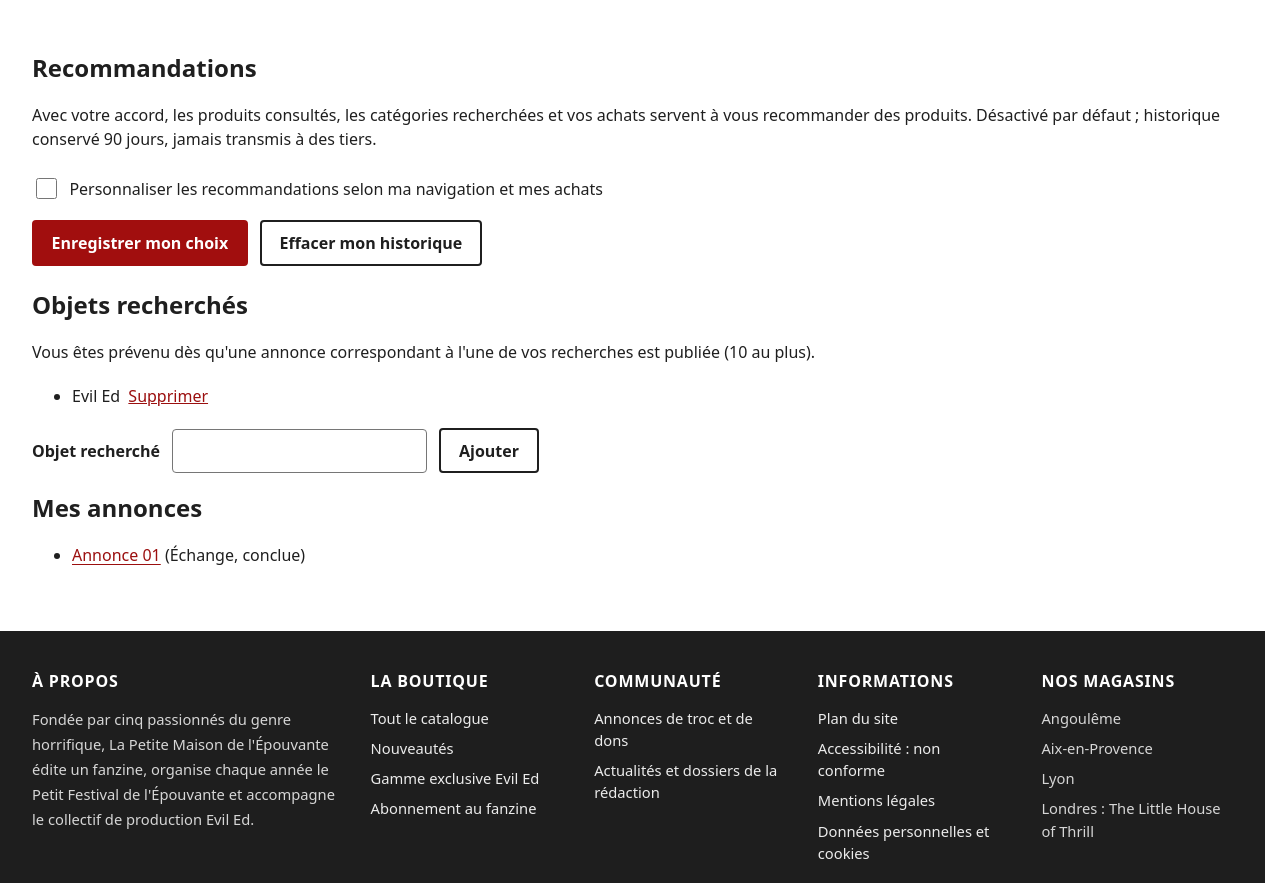
Mon espace › ajoute et supprime des objets recherchés, et affiche les refus du service
(page scrolled)
Type "Suspiria" into the field labelled "Objet recherché" at (300,451), box [172,429,427,473]
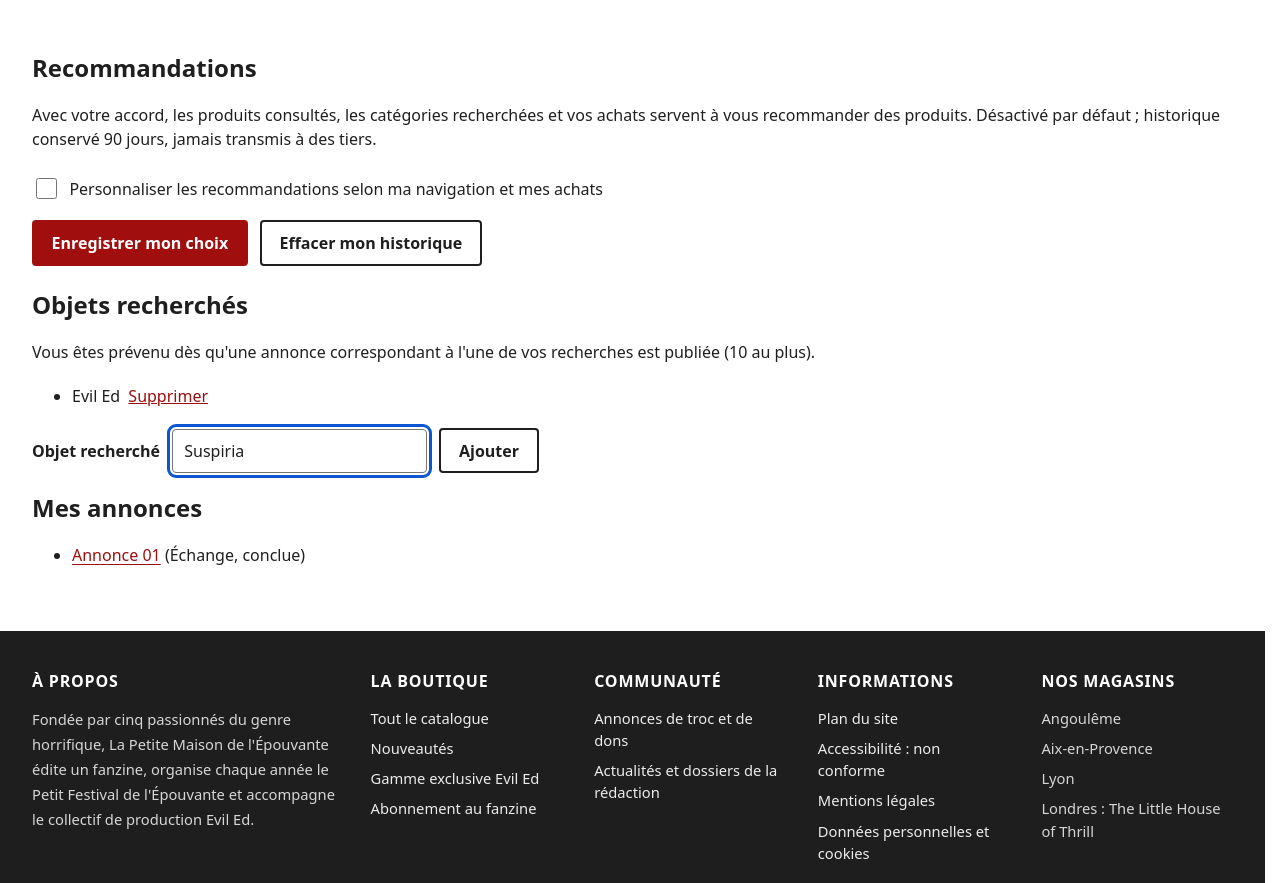
Click the button "Ajouter" at (489,451), box [439,428,539,473]
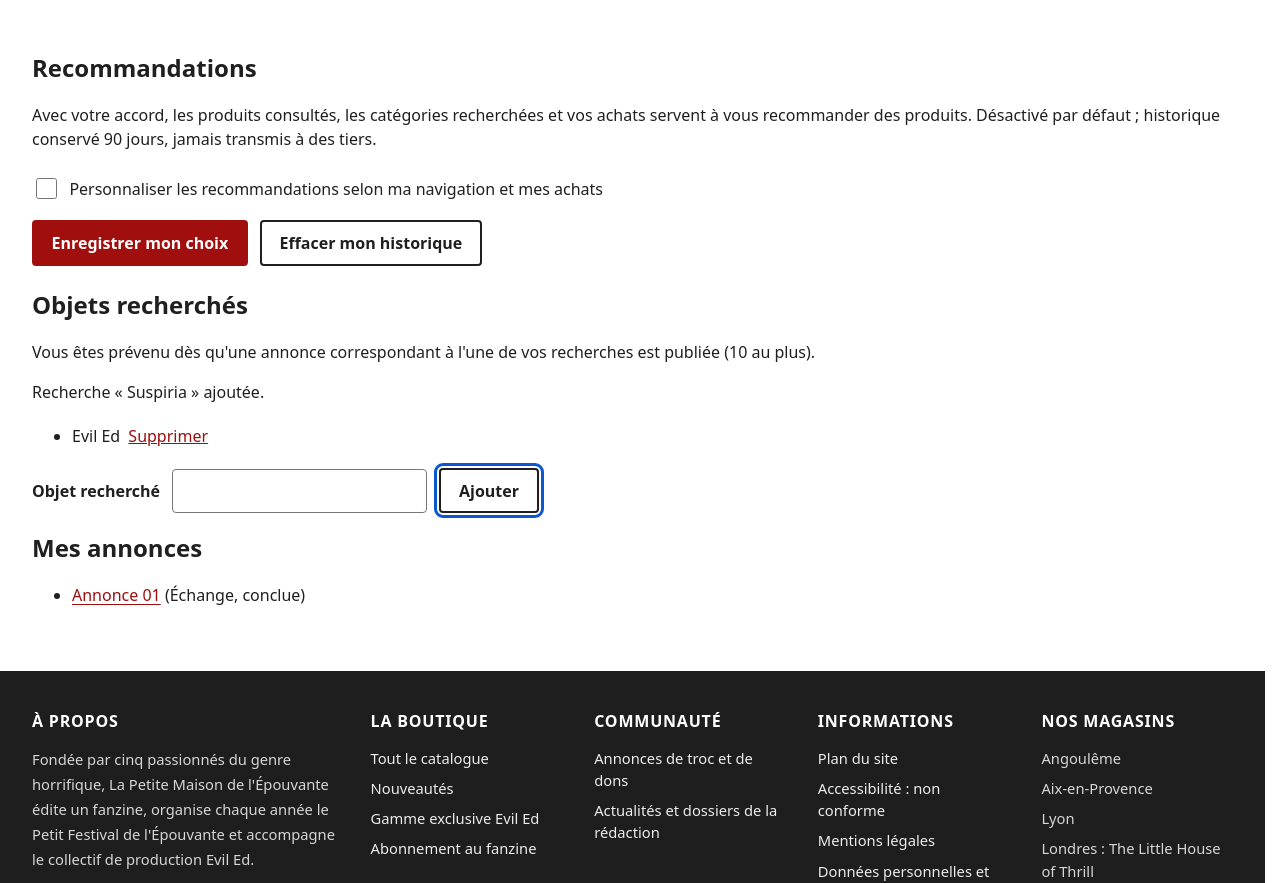
Expected: the text "Recherche « Suspiria » ajoutée." is shown, [32,381,264,403]
Click the button named "Supprimer la recherche « Evil Ed »" at (168,436), box [124,420,212,452]
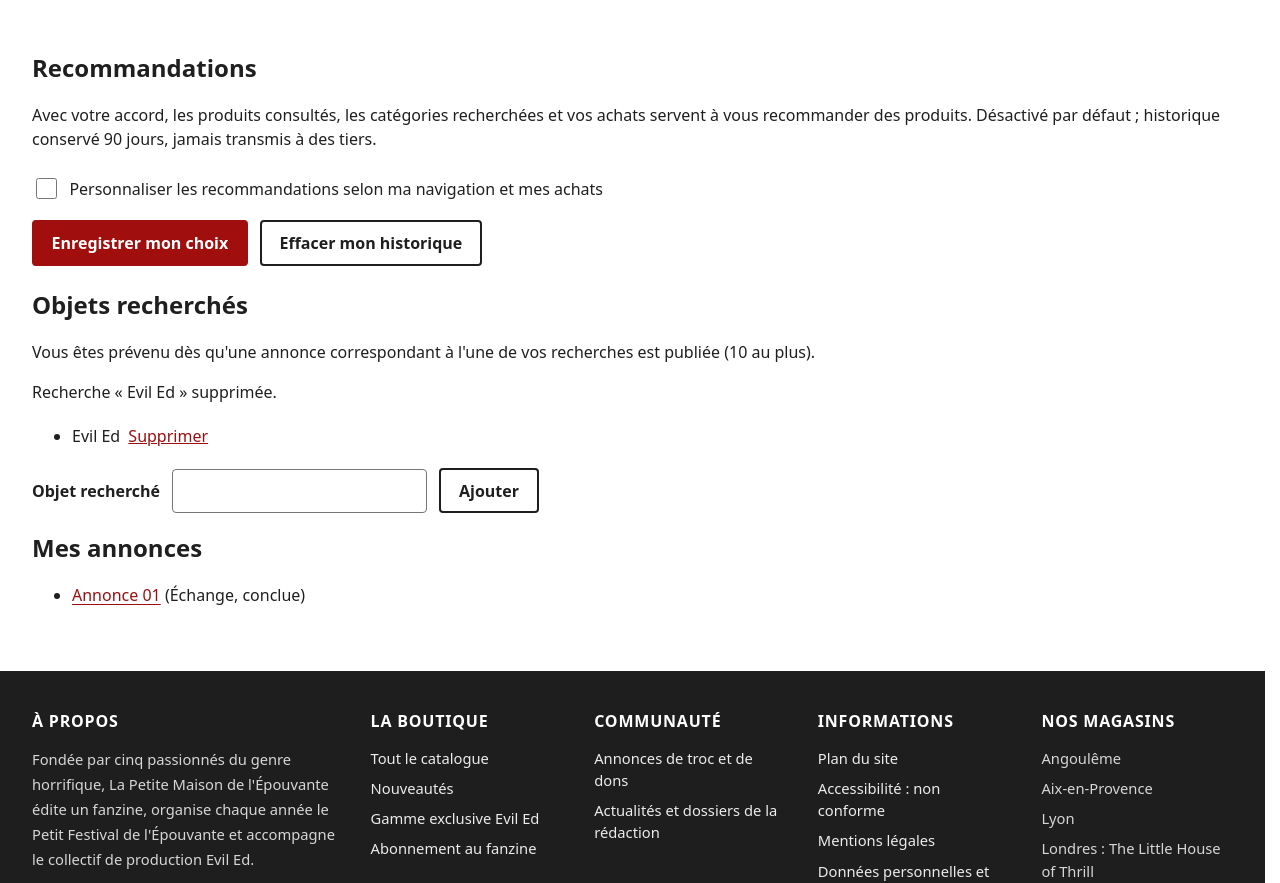
Expected: the text "Recherche « Evil Ed » supprimée." is shown, [32,381,277,403]
